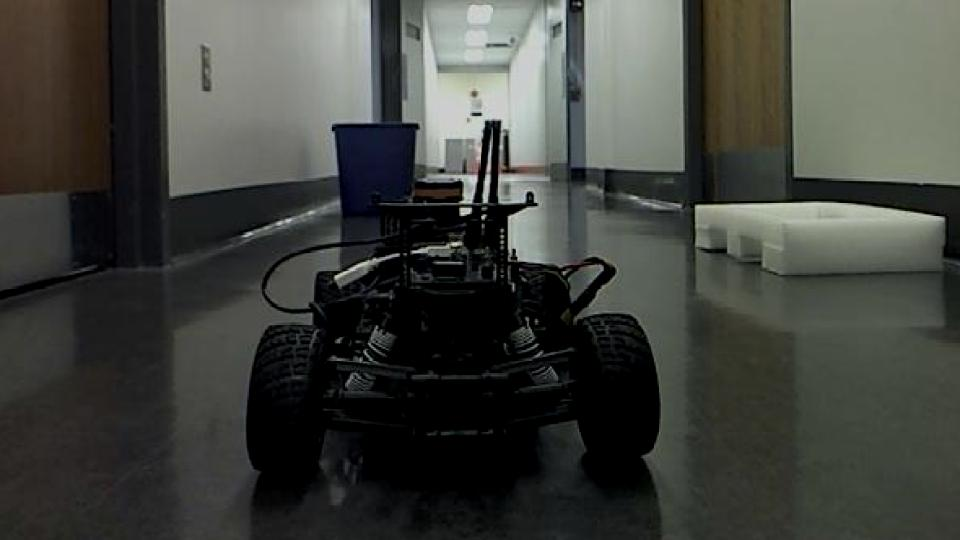car: (241, 118, 664, 483)
